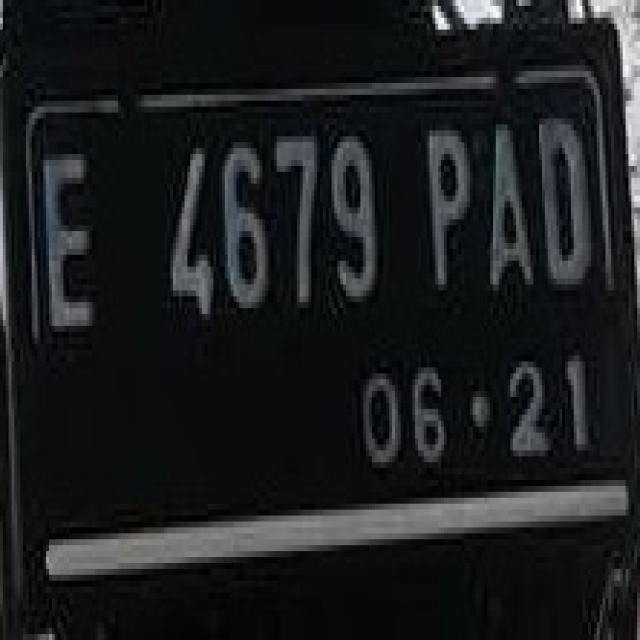plate: (12, 53, 637, 504)
